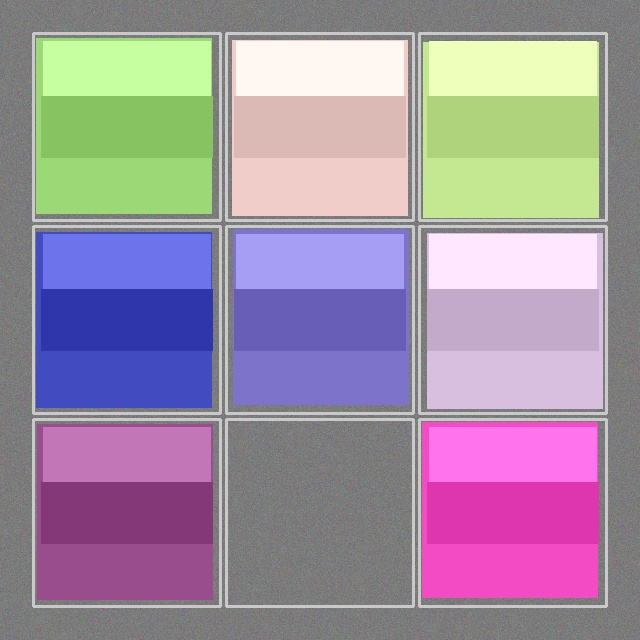space-empty: (228, 421, 411, 604)
space-occupied: (35, 35, 218, 218), (228, 35, 411, 218), (421, 35, 604, 218), (35, 228, 218, 411), (228, 228, 411, 411), (421, 228, 604, 411), (35, 421, 218, 604), (421, 421, 604, 604)
